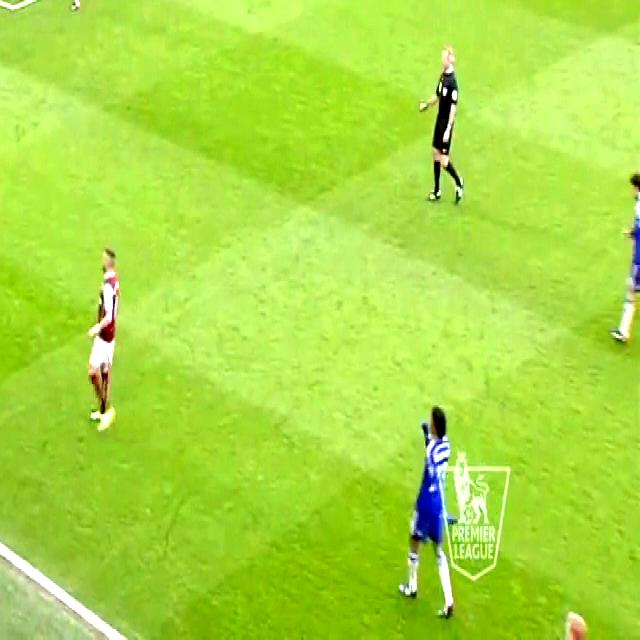referee: (416, 28, 477, 218)
soccer-player: (396, 393, 469, 636), (74, 233, 128, 442), (610, 153, 640, 357), (545, 596, 607, 640), (59, 0, 100, 20)
